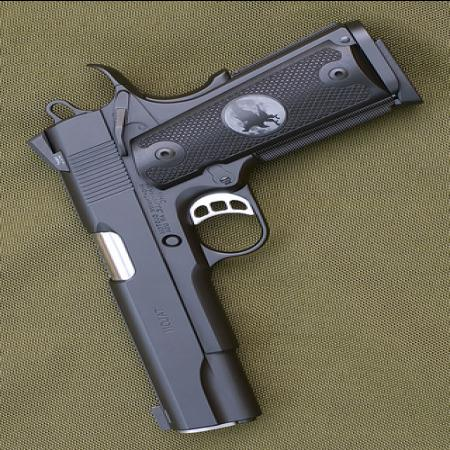Pistol: (26, 15, 420, 435)
